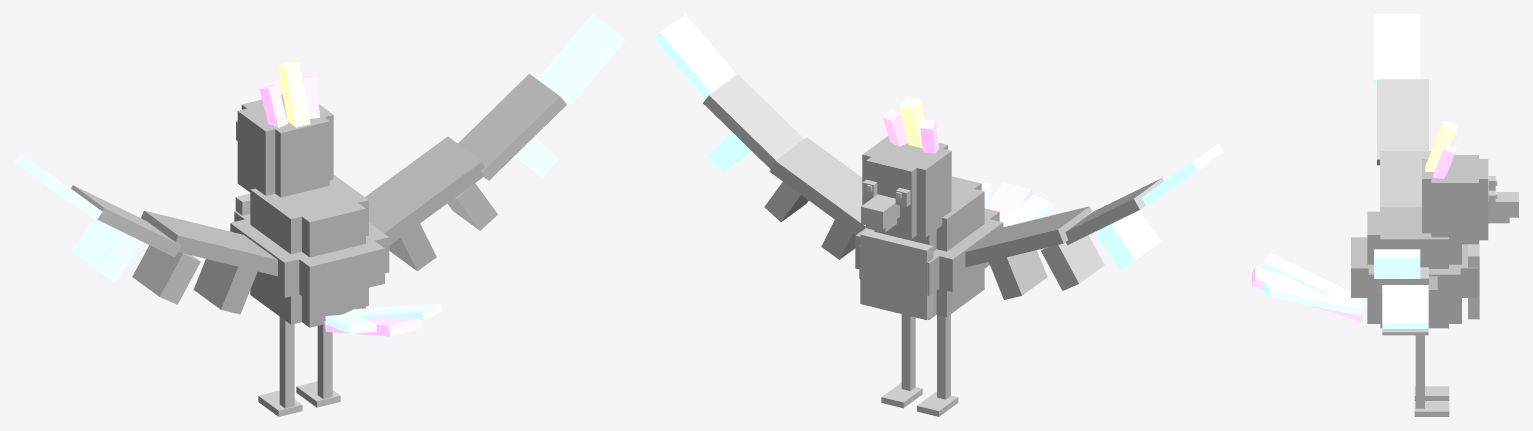
The model's file is TropicalPhoenix.fbx.
The picture shows the model from 3 angles, left to right: view 1: azimuth 30°, elevation 25°; view 2: azimuth 150°, elevation 25°; view 3: azimuth 270°, elevation 25°; orthographic projection. The views are drawn at different scales.
Parts seen in each view (by area): view 1: Tropical Phoenix_wingR_20, Tropical Phoenix_wingR_22, Tropical Phoenix_body_5, Tropical Phoenix_body_3, Tropical Phoenix_wingR_24, Tropical Phoenix_wingL_21, Tropical Phoenix_body_4, Tropical Phoenix_head_10, Tropical Phoenix_body_2, Tropical Phoenix_wingL_31, Tropical Phoenix_wingL_29, Tropical Phoenix_wingL_27 (+20 smaller); view 2: Tropical Phoenix_body_6, Tropical Phoenix_wingR_20, Tropical Phoenix_wingR_22, Tropical Phoenix_wingL_21, Tropical Phoenix_wingR_24, Tropical Phoenix_head_10, Tropical Phoenix_head_9, Tropical Phoenix_body_2, Tropical Phoenix_wingL_31, Tropical Phoenix_body_4, Tropical Phoenix_wingL_29, Tropical Phoenix_wingL_27 (+20 smaller); view 3: Tropical Phoenix_wingL_23, Tropical Phoenix_wingL_25, Tropical Phoenix_wingL_21, Tropical Phoenix_head_9, Tropical Phoenix_wingR_30, Tropical Phoenix_body_4, Tropical Phoenix_body_3, Tropical Phoenix_body_5, Tropical Phoenix_head_10, Tropical Phoenix_body_2, Tropical Phoenix_tail_33, Tropical Phoenix_head_7 (+15 smaller).
Boxes of the visible parts, x1,y1,x2,y2 form: Tropical Phoenix_wingR_20: (365,136,484,245); Tropical Phoenix_wingR_22: (458,73,566,180); Tropical Phoenix_body_5: (272,183,365,257); Tropical Phoenix_body_3: (234,211,384,301); Tropical Phoenix_wingR_24: (537,14,625,104); Tropical Phoenix_wingL_21: (141,210,277,276); Tropical Phoenix_body_4: (250,175,368,254); Tropical Phoenix_head_10: (241,94,329,169); Tropical Phoenix_body_2: (230,218,389,297); Tropical Phoenix_wingL_31: (71,219,142,281); Tropical Phoenix_wingL_29: (132,245,200,304); Tropical Phoenix_wingL_27: (193,259,257,314); Tropical Phoenix_body_6: (860,230,933,319); Tropical Phoenix_wingR_20: (769,137,865,234); Tropical Phoenix_wingR_22: (703,74,803,169); Tropical Phoenix_wingL_21: (965,206,1092,267); Tropical Phoenix_wingR_24: (654,14,736,98); Tropical Phoenix_head_10: (866,142,947,205); Tropical Phoenix_head_9: (862,135,951,203); Tropical Phoenix_body_2: (855,218,1003,291); Tropical Phoenix_wingL_31: (1095,210,1161,269); Tropical Phoenix_body_4: (874,183,984,251); Tropical Phoenix_wingL_29: (1041,235,1104,290); Tropical Phoenix_wingL_27: (989,250,1047,299); Tropical Phoenix_wingL_23: (1377,79,1428,165); Tropical Phoenix_wingL_25: (1374,14,1420,83); Tropical Phoenix_wingL_21: (1380,151,1430,211); Tropical Phoenix_head_9: (1431,155,1478,213); Tropical Phoenix_wingR_30: (1382,285,1428,328); Tropical Phoenix_body_4: (1380,207,1448,268); Tropical Phoenix_body_3: (1351,237,1478,297); Tropical Phoenix_body_5: (1367,211,1461,264); Tropical Phoenix_head_10: (1422,159,1488,209); Tropical Phoenix_body_2: (1368,264,1460,304); Tropical Phoenix_tail_33: (1261,281,1363,315); Tropical Phoenix_head_7: (1431,213,1478,244).
Bounding box in the file's own units: 491 × 268 × 230.
